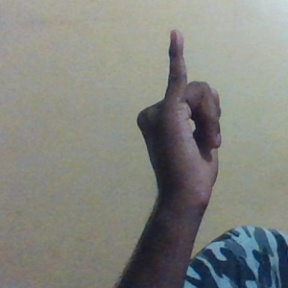I: (134, 27, 235, 196)
